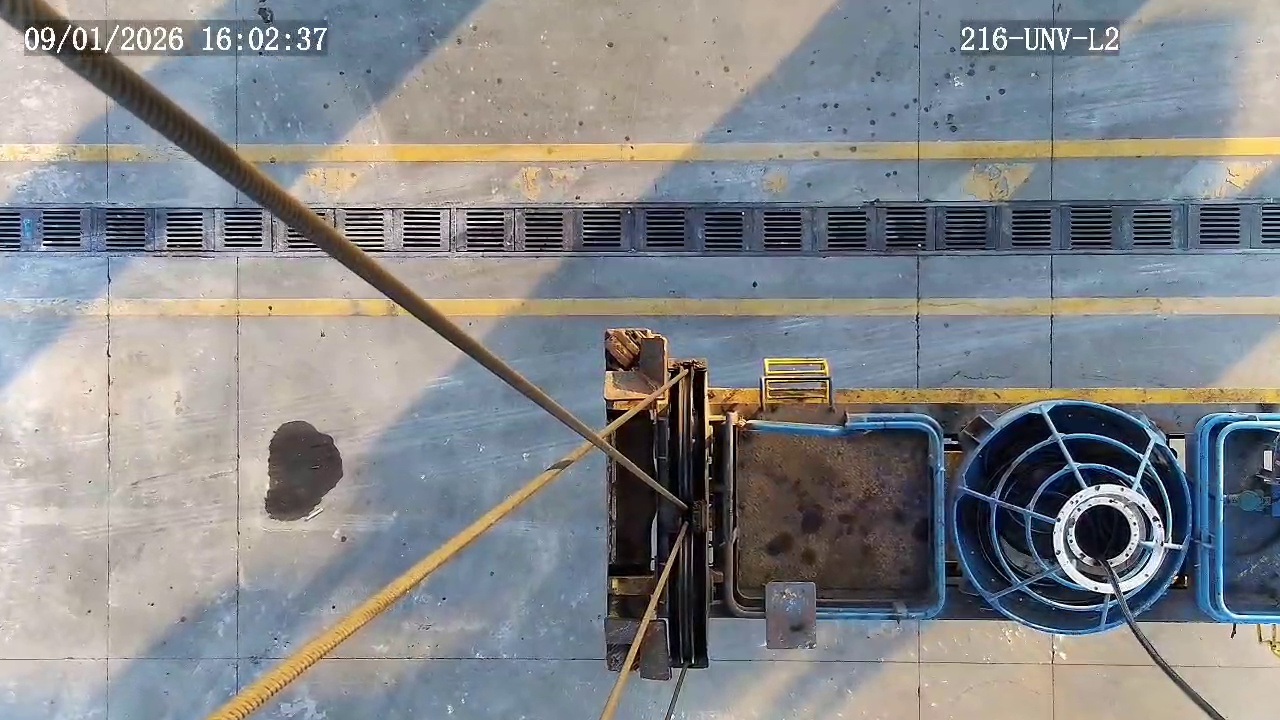left: (952, 400, 1193, 637)
